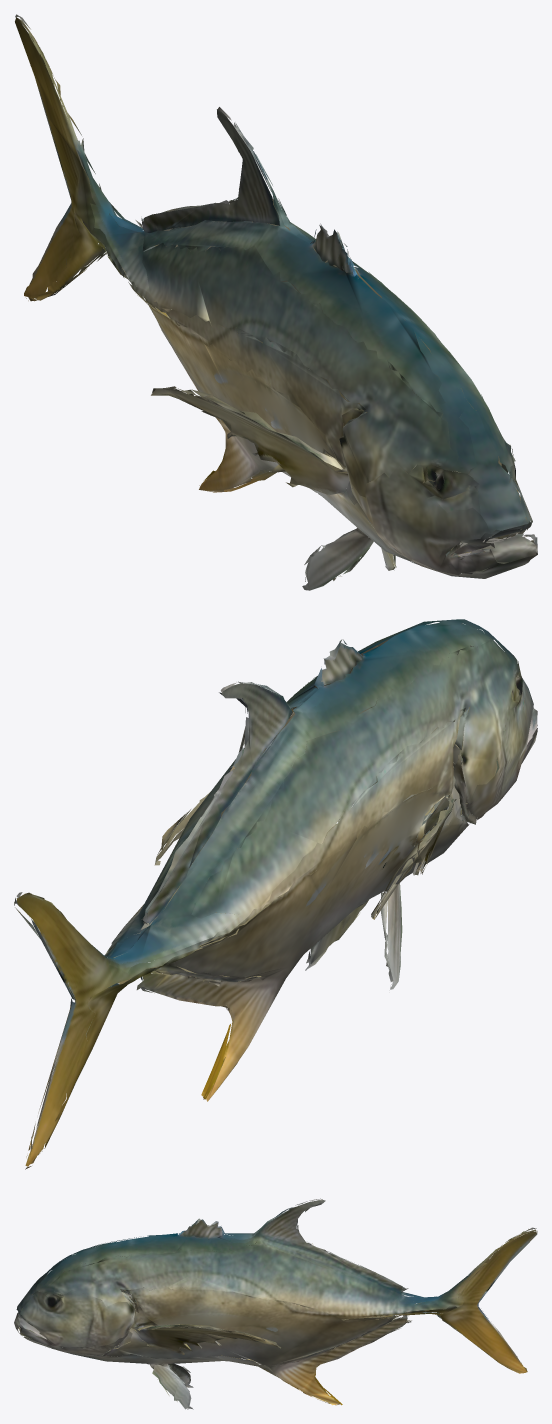
The model's file is jack.glb.
The picture shows the model from 3 angles, top to bottom: view 1: azimuth 30°, elevation 25°; view 2: azimuth 150°, elevation 25°; view 3: azimuth 270°, elevation 25°; orthographic projection. The views are drawn at different scales.
Visible parts, largest first — view 1: jack.001; view 2: jack.001; view 3: jack.001.
Boxes of the visible parts, bbox=[...] form: jack.001: bbox=[15, 14, 537, 590]; jack.001: bbox=[14, 619, 537, 1169]; jack.001: bbox=[14, 1198, 537, 1409].
Size of the model in its own units: 0.2623 by 0.4393 by 1.
1 material, 1 textured.
